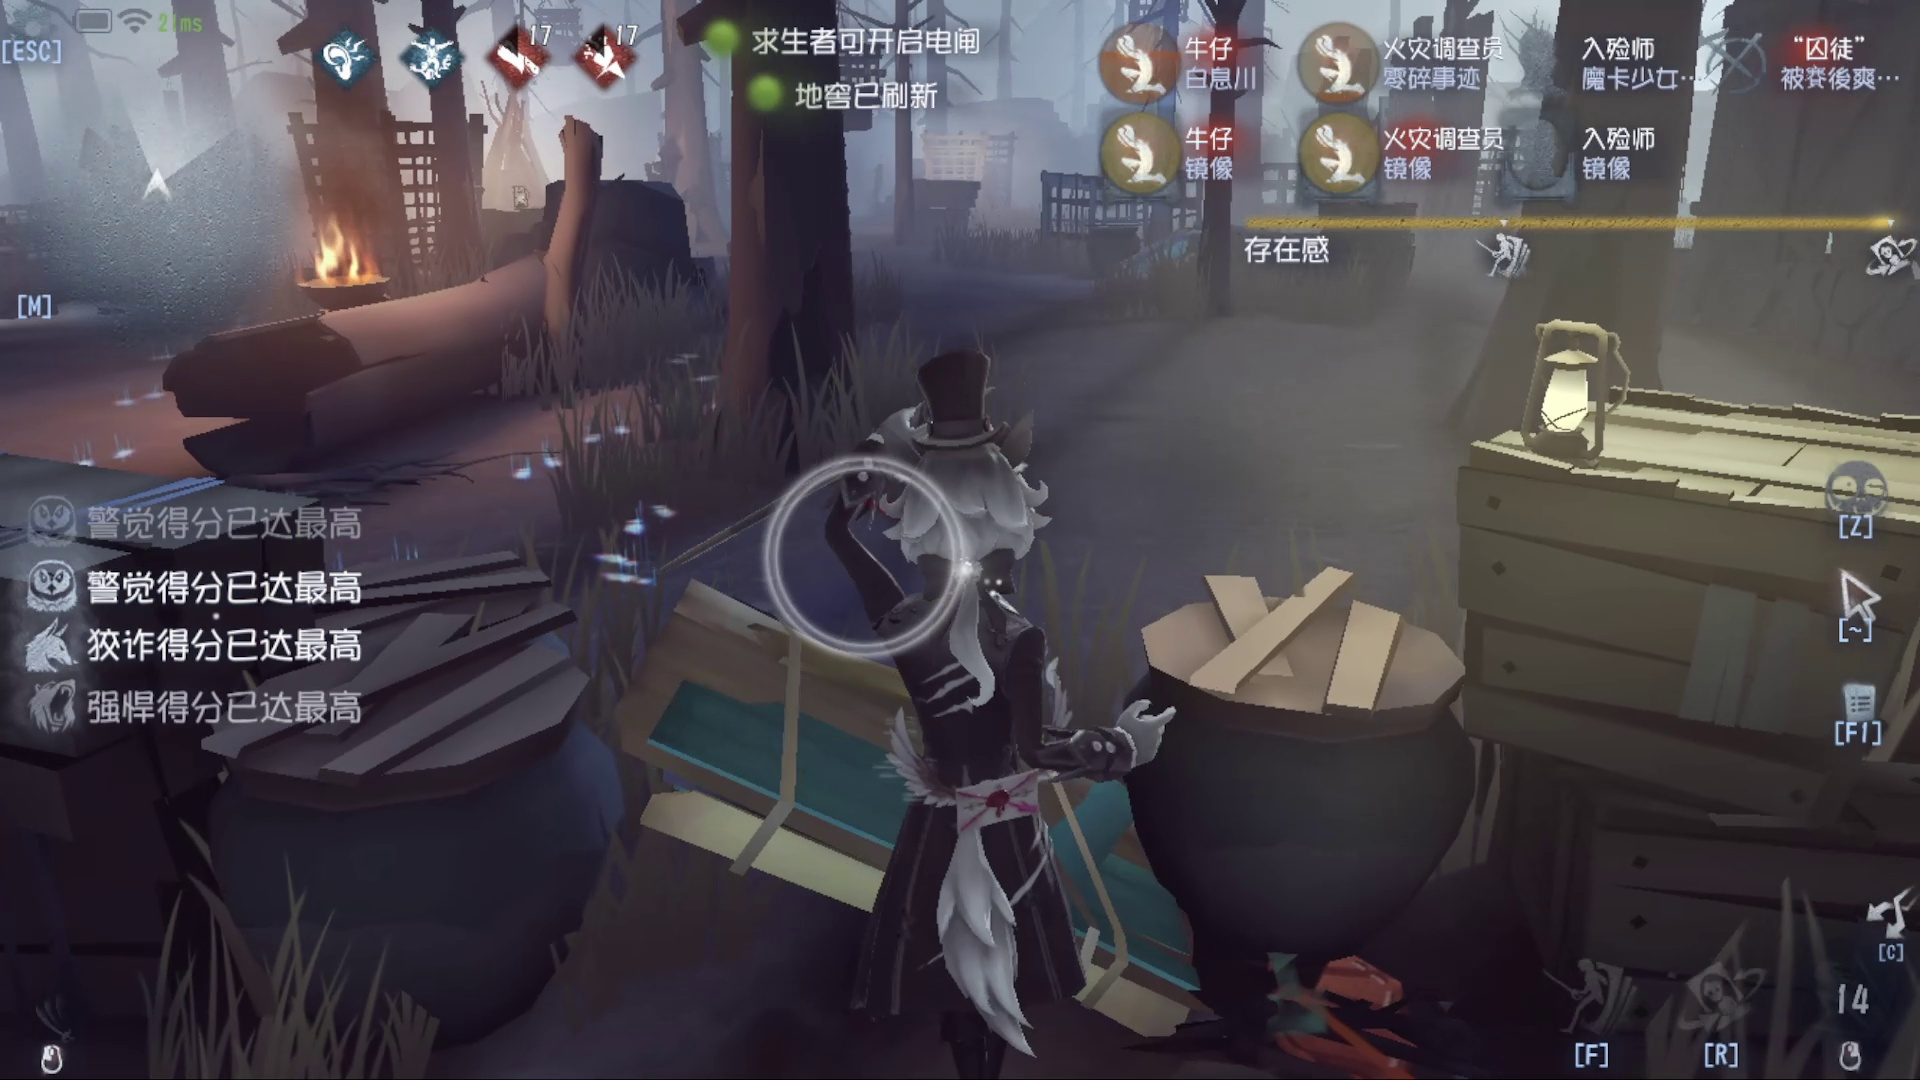木板: (593, 559, 1184, 967), (1117, 225, 1228, 298)
